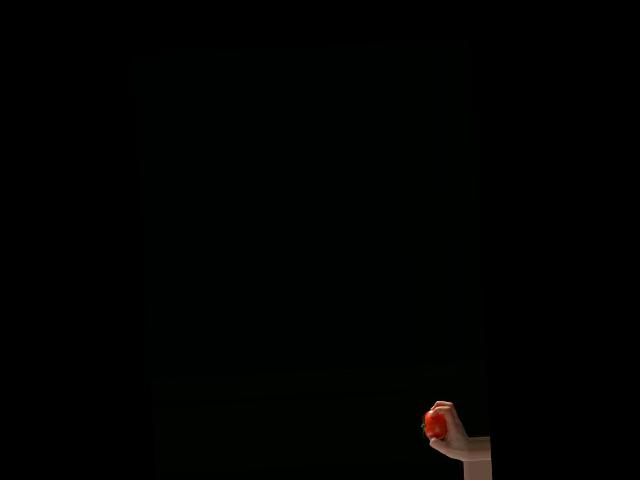tomato: (420, 409, 447, 440)
